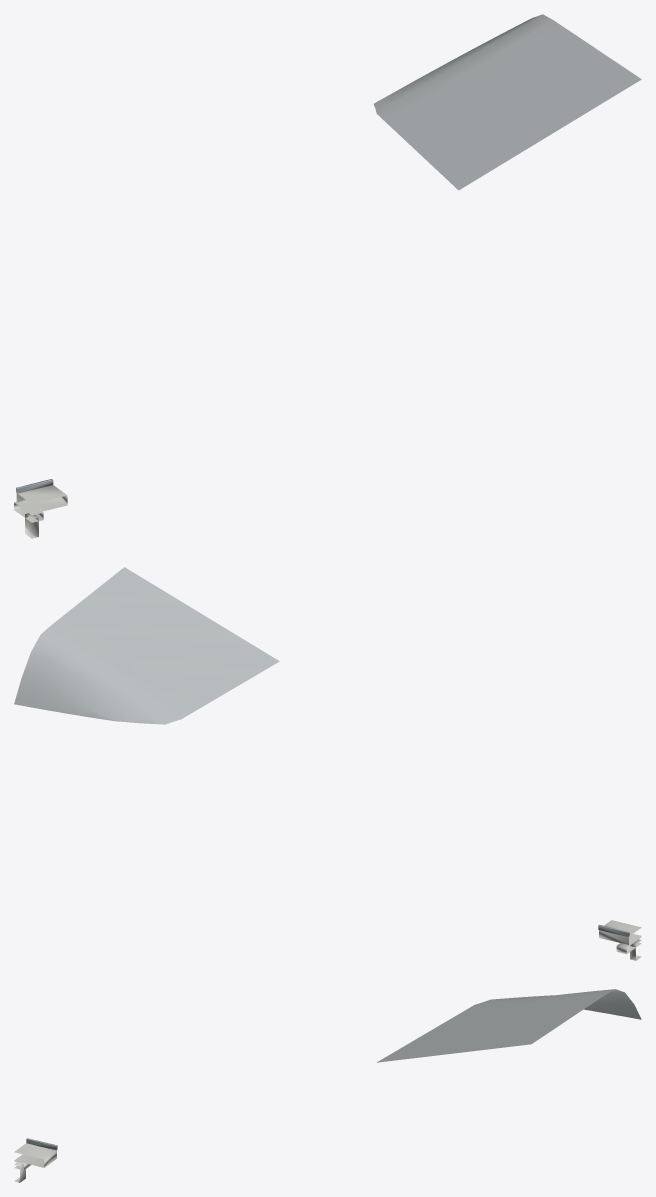
File: alpine-10-11.glb
3 renders of one model, top to bottom at view 1: azimuth 30°, elevation 25°; view 2: azimuth 150°, elevation 25°; view 3: azimuth 330°, elevation 25°, orthographic. The views are drawn at different scales.
Visible parts, largest first — view 1: alpine-10-11; view 2: alpine-10-11; view 3: alpine-10-11.
Part boxes in pixels (left/top/right/bottom): alpine-10-11: left=14, top=14, right=641, bottom=538; alpine-10-11: left=14, top=567, right=641, bottom=960; alpine-10-11: left=14, top=989, right=641, bottom=1182.
Bounding box in the file's own units: 256 × 124 × 94.66.
Materials: 3 (3 with a texture image).
